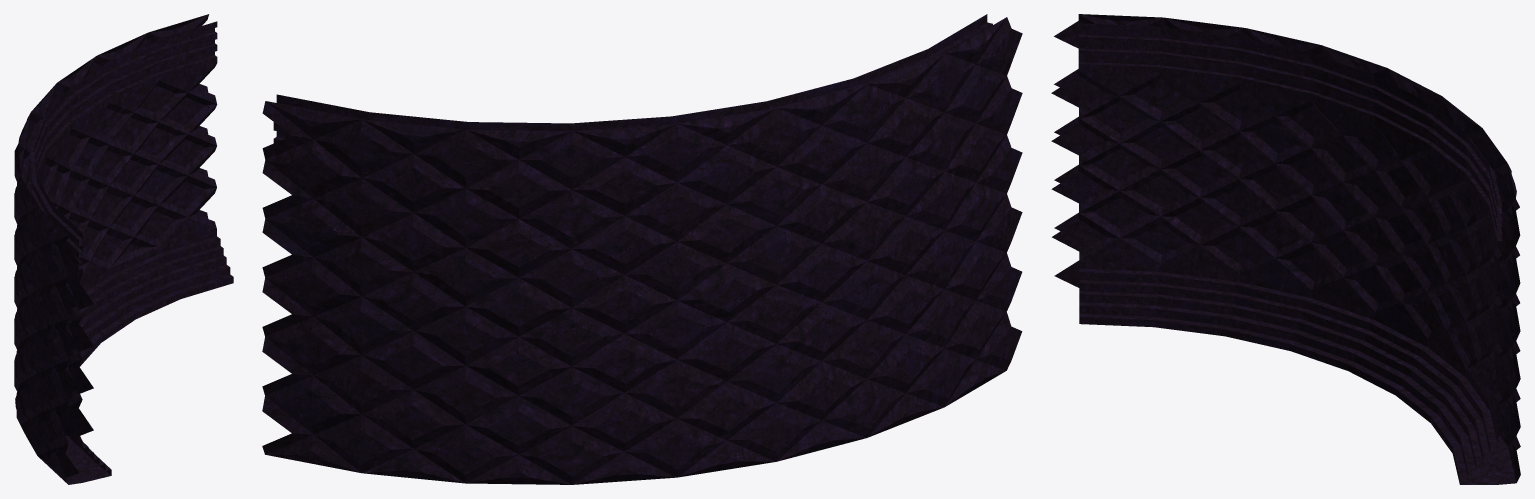
Rendered from mdl_duc_sci_planetariumcylinder_4of4.glb.
The picture shows the model from 3 angles, left to right: view 1: azimuth 30°, elevation 25°; view 2: azimuth 150°, elevation 25°; view 3: azimuth 270°, elevation 25°; orthographic projection. The views are drawn at different scales.
Parts seen in each view (by area): view 1: Cylindrical Wall 4/4; view 2: Cylindrical Wall 4/4; view 3: Cylindrical Wall 4/4.
Boxes of the visible parts, box(x1,y1,x2,y2) form: Cylindrical Wall 4/4: box(14, 14, 233, 484); Cylindrical Wall 4/4: box(262, 14, 1022, 484); Cylindrical Wall 4/4: box(1051, 14, 1520, 484).
Size of the model in its own units: 1.03 by 0.7389 by 1.1.
1 material, 1 textured.
